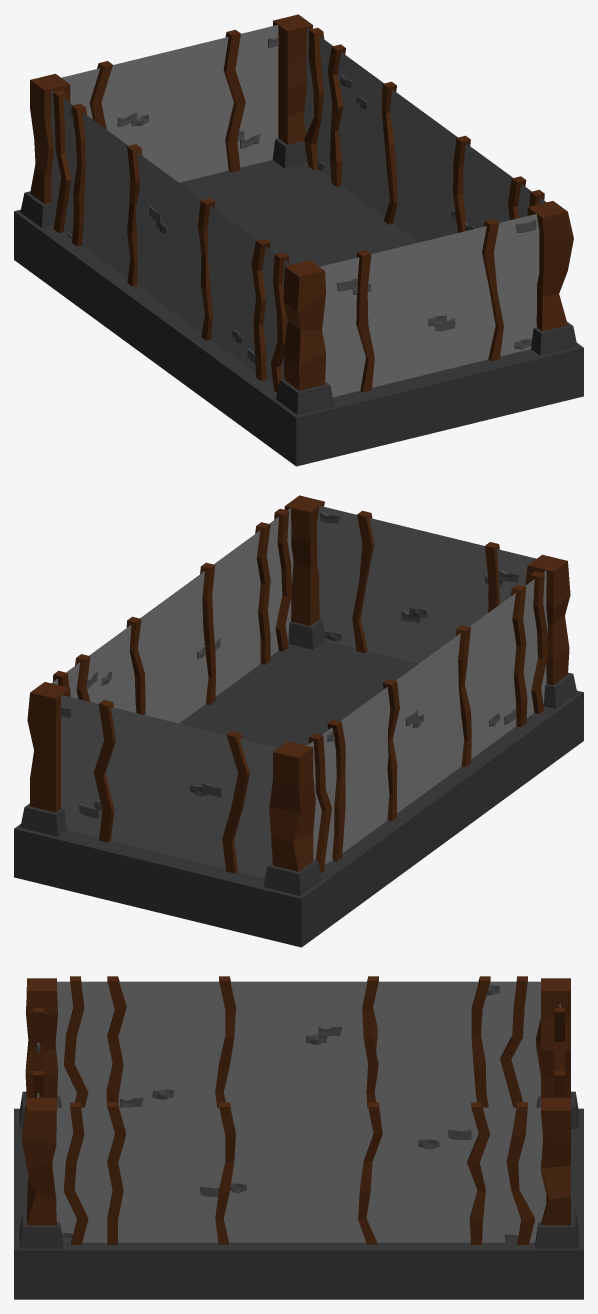
Rendered from House01_Foundation.fbx.
3 renders of one model, top to bottom at view 1: azimuth 30°, elevation 25°; view 2: azimuth 150°, elevation 25°; view 3: azimuth 270°, elevation 25°, orthographic.
Parts seen in each view (by area): view 1: House001_Foundation; view 2: House001_Foundation; view 3: House001_Foundation.
Part boxes in pixels (<box>): House001_Foundation: <box>14,14,583,466</box>; House001_Foundation: <box>14,495,583,947</box>; House001_Foundation: <box>14,976,583,1299</box>.
Size of what is drawn, in the model's own units: 900 by 554 by 1530.
